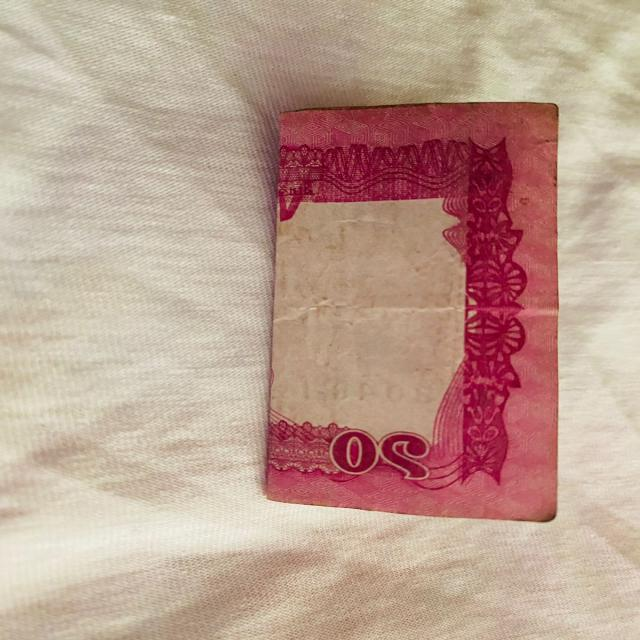Taka: (267, 98, 592, 517)
